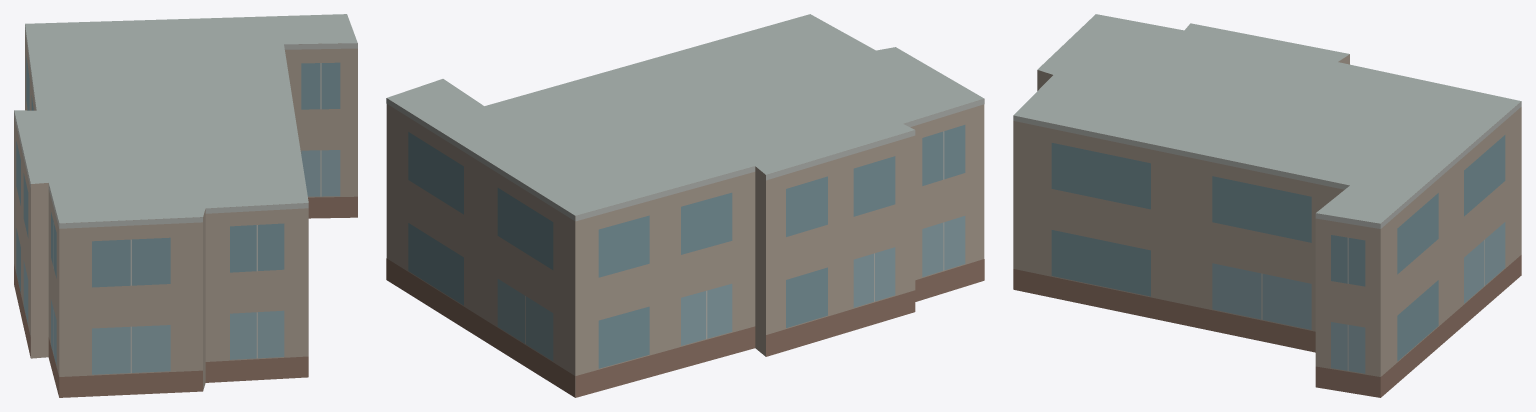
The model's file is survey-upis-33029586.glb.
The picture shows the model from 3 angles, left to right: view 1: azimuth 30°, elevation 25°; view 2: azimuth 150°, elevation 25°; view 3: azimuth 270°, elevation 25°; orthographic projection. The views are drawn at different scales.
Visible parts, largest first — view 1: survey-upis-33029586.tmp; view 2: survey-upis-33029586.tmp; view 3: survey-upis-33029586.tmp.
Boxes of the visible parts, x1,y1,x2,y2 form: survey-upis-33029586.tmp: (14, 14, 357, 397); survey-upis-33029586.tmp: (386, 14, 984, 397); survey-upis-33029586.tmp: (1013, 14, 1521, 397).
Bounding box in the file's own units: 20.32 × 7.87 × 20.81.
